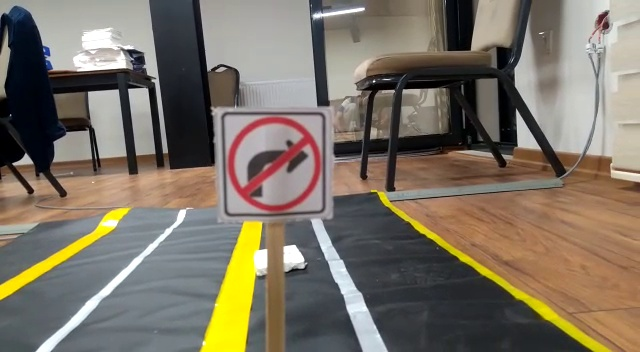park_yapilmaz: (222, 114, 329, 215)
